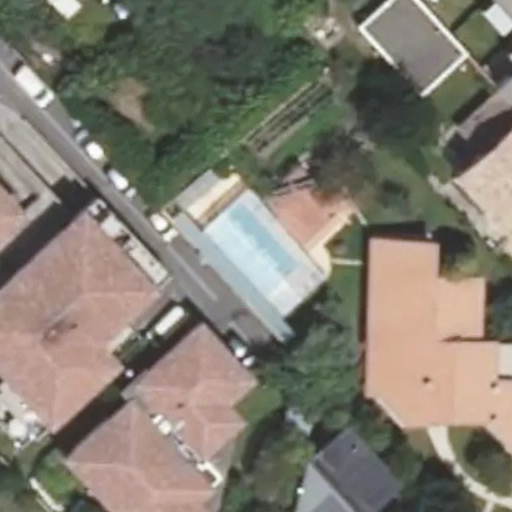pool: (204, 224, 308, 259)
